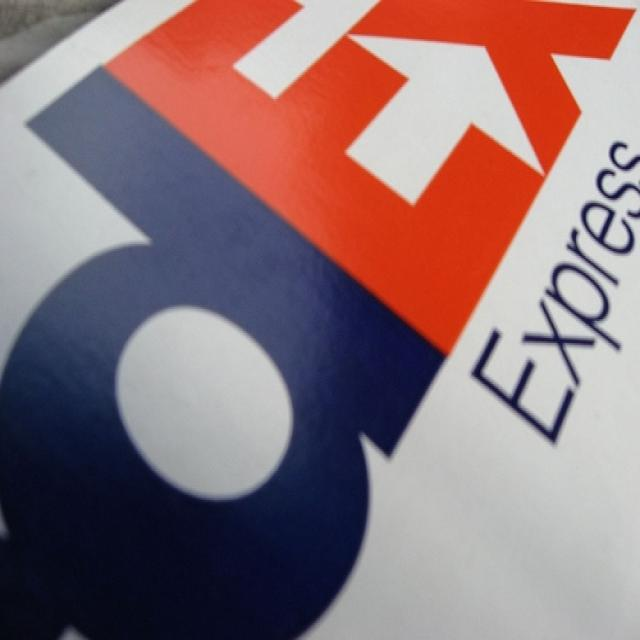fedex: (2, 3, 640, 639)
